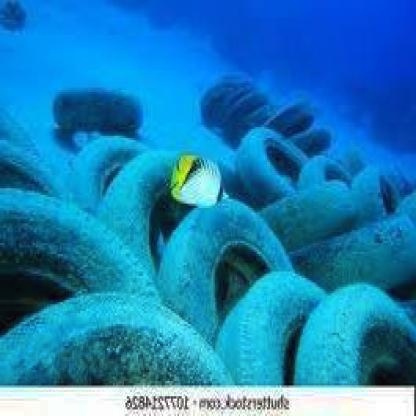tire: (2, 278, 237, 388), (2, 182, 168, 304), (143, 193, 298, 318), (93, 138, 232, 256), (199, 257, 322, 386), (300, 280, 416, 381), (290, 217, 416, 293), (251, 173, 371, 239), (198, 70, 314, 131), (57, 129, 163, 193), (232, 120, 294, 193), (358, 173, 416, 250), (46, 88, 149, 129), (2, 105, 48, 191), (294, 149, 356, 204)
